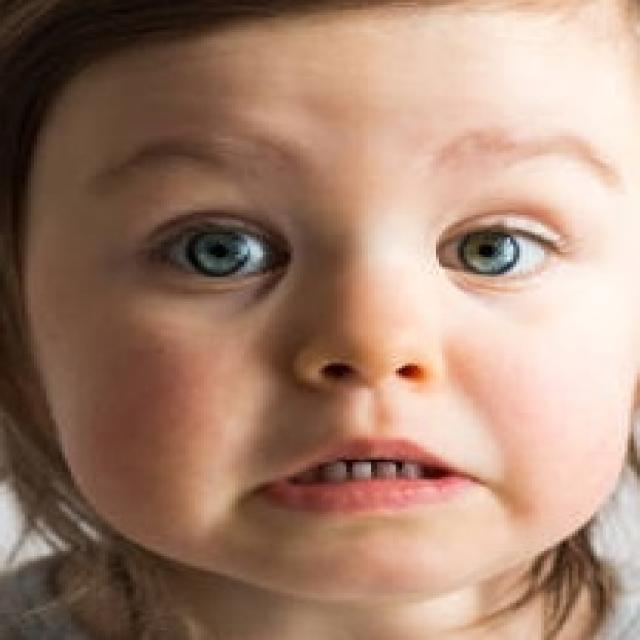Anxiety: (23, 0, 637, 606)
